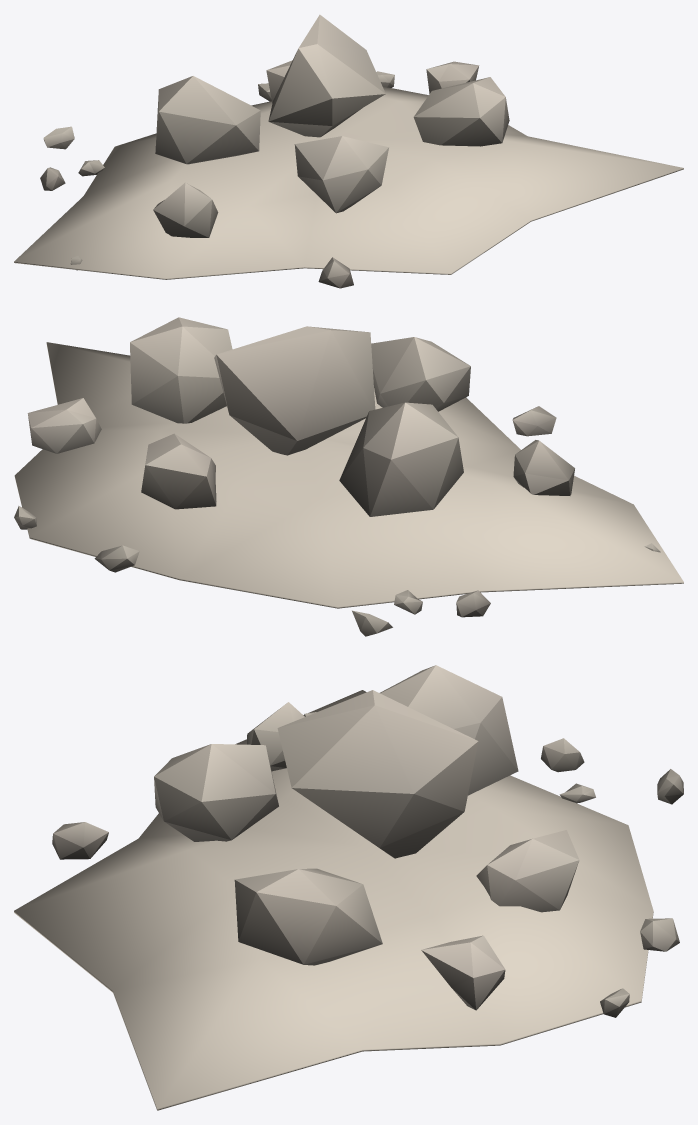
The model's file is SM_VKI_Overlay_Debris_Rubble.fbx.
The picture shows the model from 3 angles, top to bottom: view 1: azimuth 30°, elevation 25°; view 2: azimuth 150°, elevation 25°; view 3: azimuth 270°, elevation 25°; orthographic projection. The views are drawn at different scales.
Parts seen in each view (by area): view 1: SM_VKI_Overlay_Debris_Rubble.001; view 2: SM_VKI_Overlay_Debris_Rubble.001; view 3: SM_VKI_Overlay_Debris_Rubble.001.
Boxes of the visible parts, box(x1,y1,x2,y2) form: SM_VKI_Overlay_Debris_Rubble.001: box(14, 14, 683, 288); SM_VKI_Overlay_Debris_Rubble.001: box(14, 317, 683, 636); SM_VKI_Overlay_Debris_Rubble.001: box(14, 665, 683, 1110).
Bounding box in the file's own units: 1.34 × 0.3103 × 0.9076.
